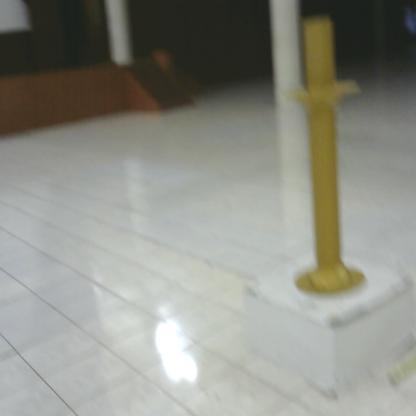pole: (277, 11, 375, 304)
